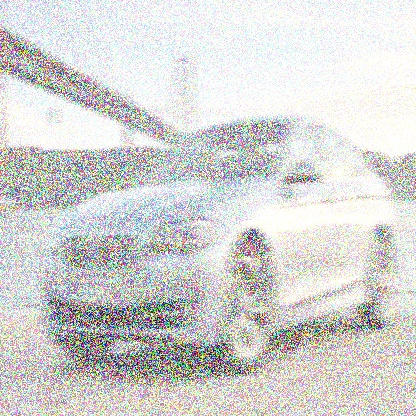Vehicle: (38, 110, 397, 379)
